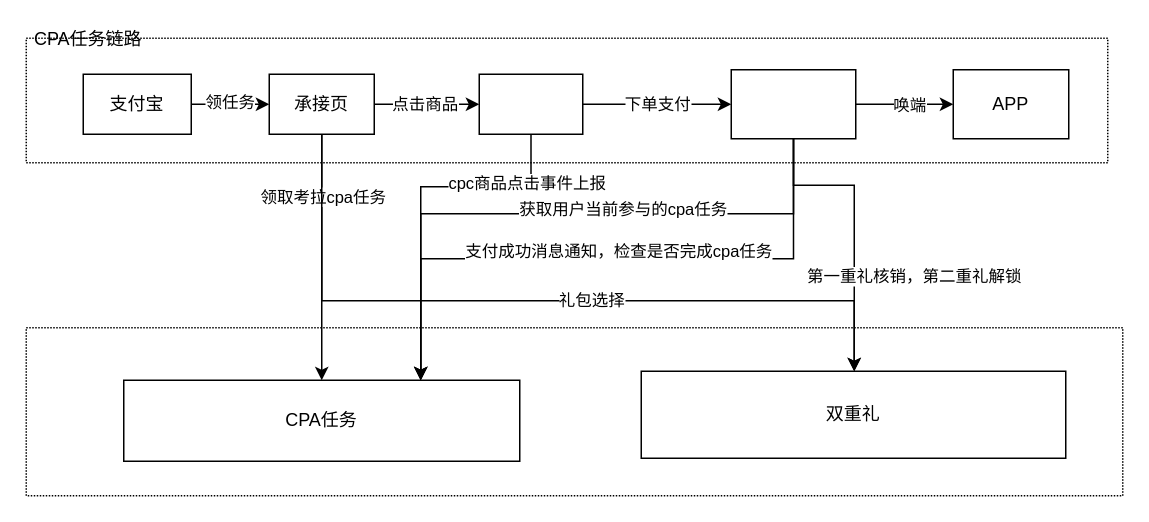
The diagram is 1149 pixels wide and 522 high, and some of its shapes have lost their labels. The shapes that lost their labels are listed below. From the top down, each one's centre as x and y in pixels, then its label:
the point at 530,103: 商详
the point at 793,103: 交易/支付成功页
